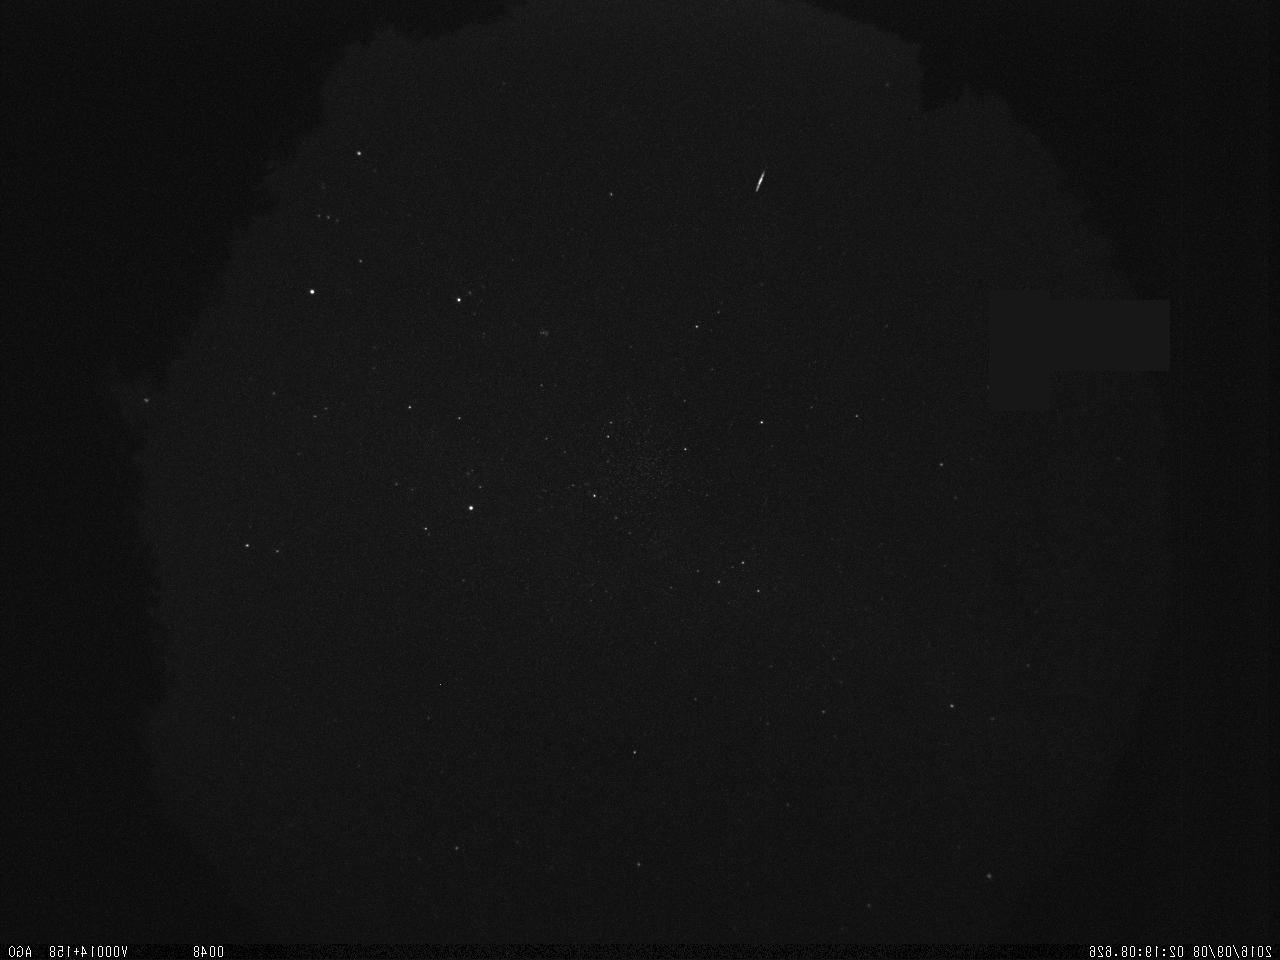meteor: (741, 165, 777, 201)
